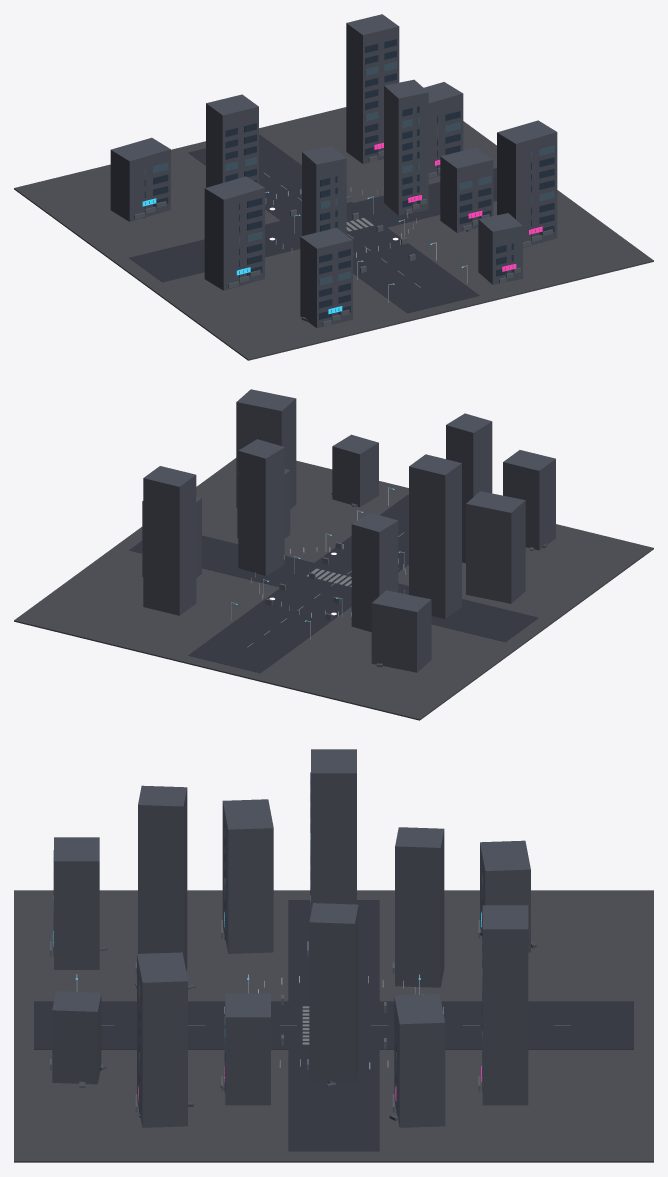
File: story_yuta.glb
3 renders of one model, top to bottom at view 1: azimuth 30°, elevation 25°; view 2: azimuth 150°, elevation 25°; view 3: azimuth 270°, elevation 25°, orthographic. The views are drawn at different scales.
Parts seen in each view (by area): view 1: district_ground, main_avenue, tower_2_core, tower_5_core, cross_street, tower_10_core, tower_6_core, tower_11_core, tower_1_core, tower_7_core, tower_3_core, tower_4_core (+2 smaller); view 2: district_ground, main_avenue, tower_7_core, tower_10_core, cross_street, tower_5_core, tower_6_core, tower_9_core, tower_11_core, tower_1_core, tower_2_core, tower_3_core (+3 smaller); view 3: district_ground, cross_street, main_avenue, tower_10_core, tower_6_core, tower_2_core, tower_3_core, tower_9_core, tower_5_core, tower_7_core, tower_8_core, tower_1_core (+3 smaller).
Boxes of the visible parts, box(x1,y1,x2,y2) form: district_ground: box(14, 107, 653, 360); main_avenue: box(188, 135, 479, 313); tower_2_core: box(497, 120, 557, 247); tower_5_core: box(204, 176, 264, 290); cross_street: box(129, 168, 496, 282); tower_10_core: box(346, 14, 399, 163); tower_6_core: box(384, 79, 428, 215); tower_11_core: box(110, 137, 170, 221); tower_1_core: box(300, 227, 352, 328); tower_7_core: box(206, 94, 258, 187); tower_3_core: box(302, 146, 346, 235); tower_4_core: box(440, 147, 493, 232); district_ground: box(14, 458, 653, 720); main_avenue: box(188, 495, 408, 673); tower_7_core: box(409, 454, 461, 618); tower_10_core: box(143, 466, 196, 615); cross_street: box(129, 535, 538, 642); tower_5_core: box(466, 491, 525, 603); tower_6_core: box(238, 439, 284, 575); tower_9_core: box(351, 512, 398, 632); tower_11_core: box(371, 590, 431, 672); tower_1_core: box(503, 450, 555, 550); tower_2_core: box(236, 389, 296, 509); tower_3_core: box(446, 413, 492, 563); district_ground: box(14, 890, 653, 1162); cross_street: box(288, 900, 379, 1151); main_avenue: box(34, 1001, 633, 1049); tower_10_core: box(482, 905, 528, 1105); tower_6_core: box(309, 903, 358, 1084); tower_2_core: box(137, 952, 187, 1127); tower_3_core: box(138, 785, 187, 971); tower_9_core: box(395, 827, 444, 987); tower_5_core: box(222, 799, 273, 953); tower_7_core: box(311, 749, 356, 912); tower_8_core: box(394, 994, 445, 1127); tower_1_core: box(54, 837, 99, 969).
Size of the model in its own units: 112 by 38.36 by 112.
